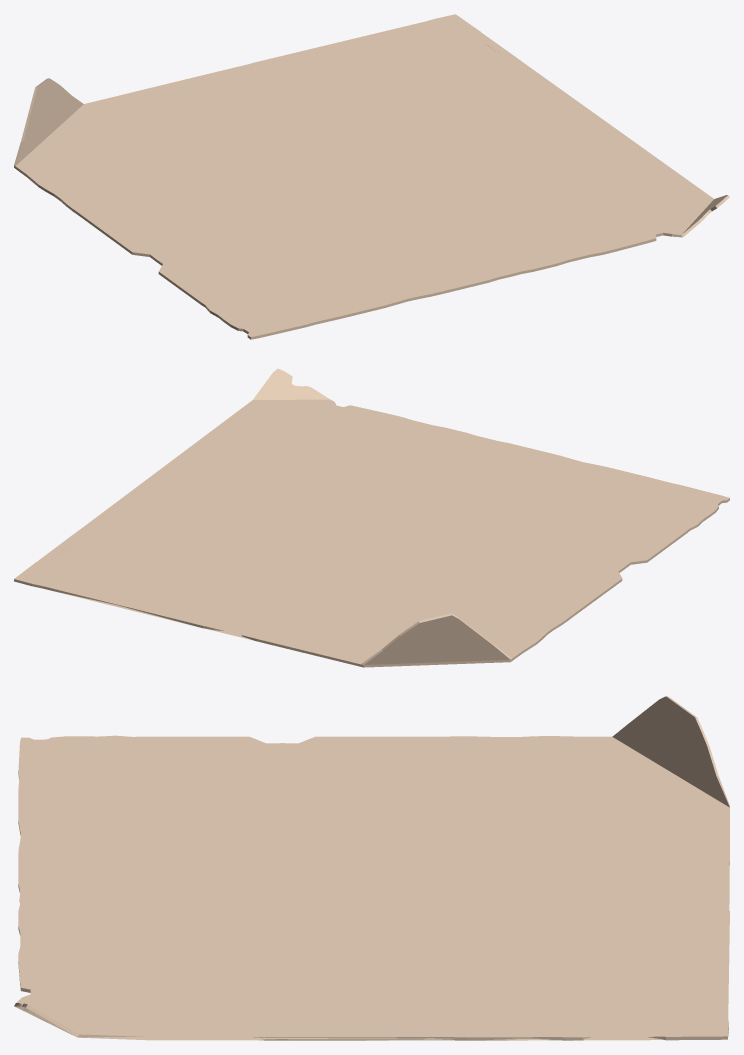
The model's file is 草稿纸.fbx.
3 views of the same model, one above another, from view 1: azimuth 30°, elevation 25°; view 2: azimuth 150°, elevation 25°; view 3: azimuth 270°, elevation 25° (orthographic). The views are drawn at different scales.
Parts seen in each view (by area): view 1: Plane_dmg; view 2: Plane_dmg; view 3: Plane_dmg.
Part boxes in pixels (x1=…): Plane_dmg: x1=14, y1=14, x2=729, y2=339; Plane_dmg: x1=14, y1=368, x2=729, y2=667; Plane_dmg: x1=14, y1=696, x2=729, y2=1040.
Bounding box in the file's own units: 805 × 88.25 × 804.
